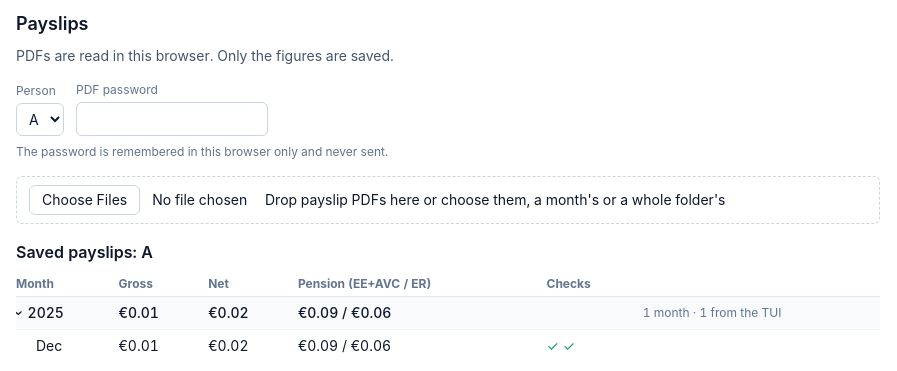
the Payslips page › shows each month's checks
This screenshot has width=897, height=371.
Select "B" in the dropdown labelled "Person": (40, 120) [16,103,64,136]
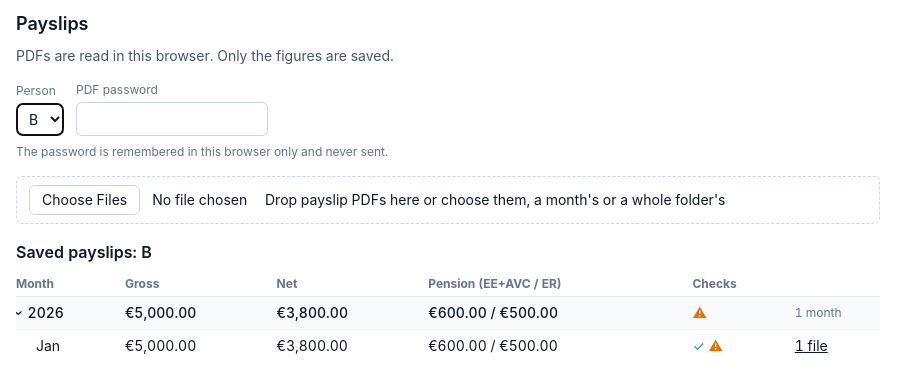
Now the element titled "Year-to-date pension does not add up" in the row of "Jan" is shown, box [709,337,723,354]
